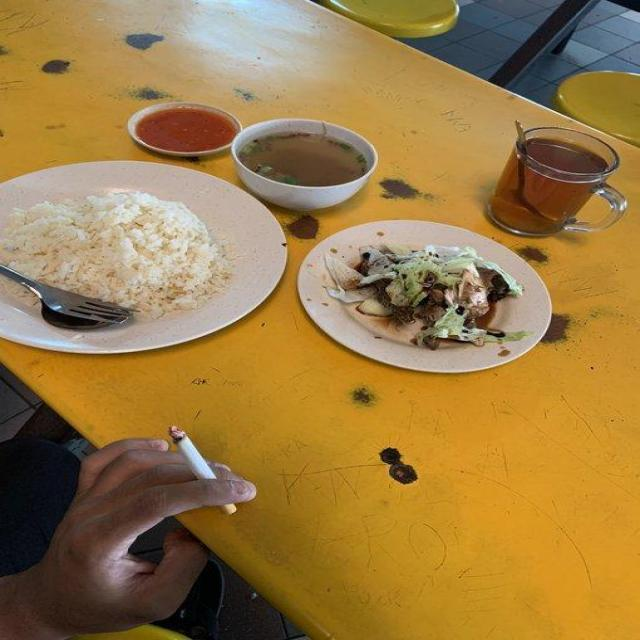rokok: (160, 419, 240, 521)
